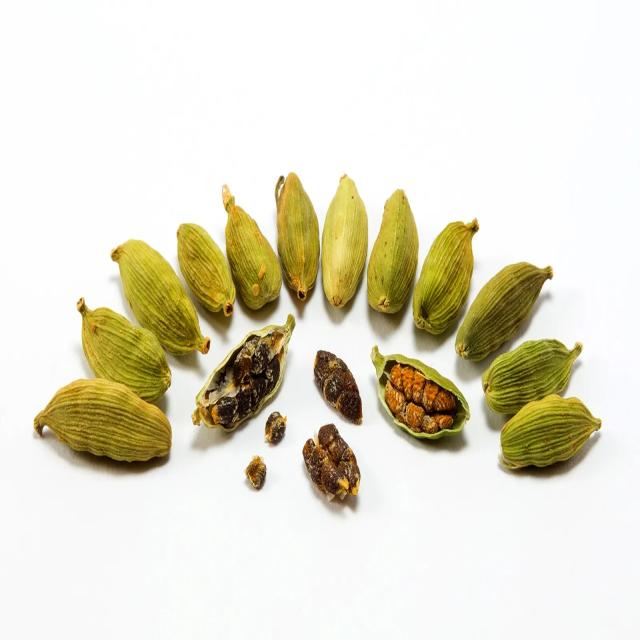Cardamom: (107, 230, 219, 369), (31, 373, 175, 479), (73, 286, 175, 403), (455, 251, 557, 363), (368, 343, 473, 449), (497, 386, 603, 487), (479, 328, 587, 422), (410, 216, 484, 336), (224, 178, 280, 329), (321, 170, 371, 322), (364, 181, 417, 323), (172, 218, 237, 326), (274, 163, 318, 309)
